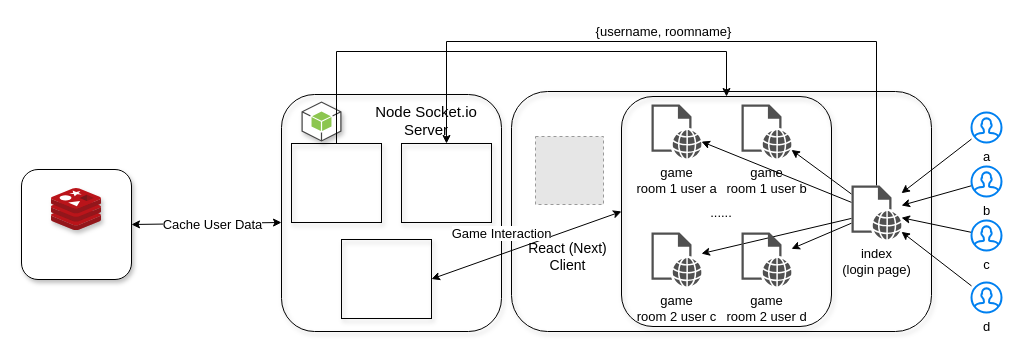
Image size: 1020x356. Some labels were removed from this diagram. Grey dashed boxes stand in for pictures. Here are the shapes that lost their labels. From the top down, the centre of each, then its label:
At point (337, 184): "<game> send back session information".
At point (447, 184): "<join> keep user record".
At point (77, 210): "Redis Cache".
At point (387, 280): "<move> handle game logic".
